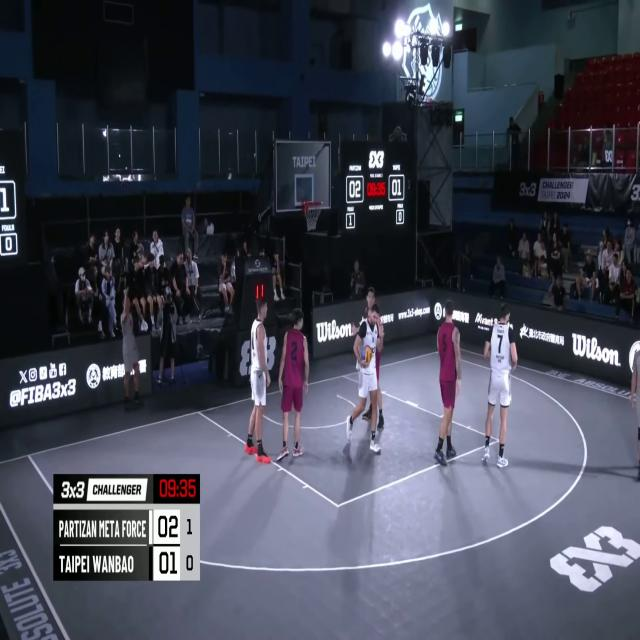ball: (360, 341, 372, 367)
hoop: (301, 197, 323, 233)
player: (346, 305, 384, 454), (429, 302, 462, 469), (482, 305, 514, 467), (280, 308, 310, 463), (247, 291, 273, 463), (360, 286, 386, 430)
